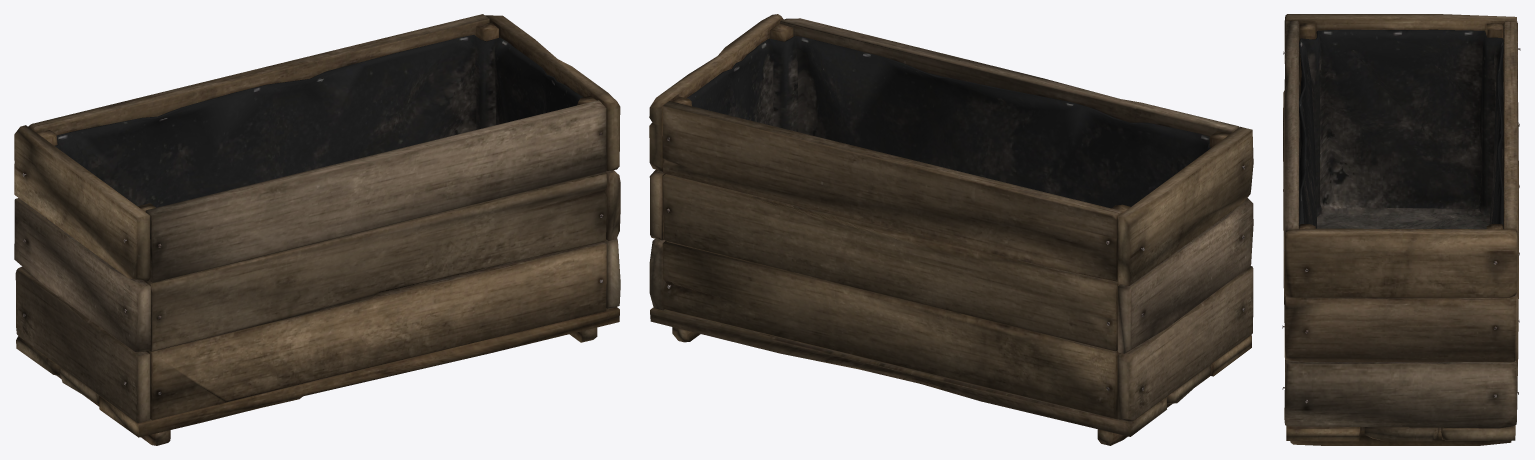
The model's file is planter_box_01_1k_LOD2.fbx.
3 renders of one model, left to right at view 1: azimuth 30°, elevation 25°; view 2: azimuth 150°, elevation 25°; view 3: azimuth 270°, elevation 25°, orthographic. The views are drawn at different scales.
Parts seen in each view (by area): view 1: planter_box_01; view 2: planter_box_01; view 3: planter_box_01.
Part boxes in pixels (x1=…): planter_box_01: x1=14, y1=14, x2=620, y2=445; planter_box_01: x1=649, y1=14, x2=1253, y2=445; planter_box_01: x1=1282, y1=14, x2=1520, y2=445.
Bounding box in the file's own units: 91.21 × 42.33 × 41.31.
Materials: 1 (1 with a texture image).
